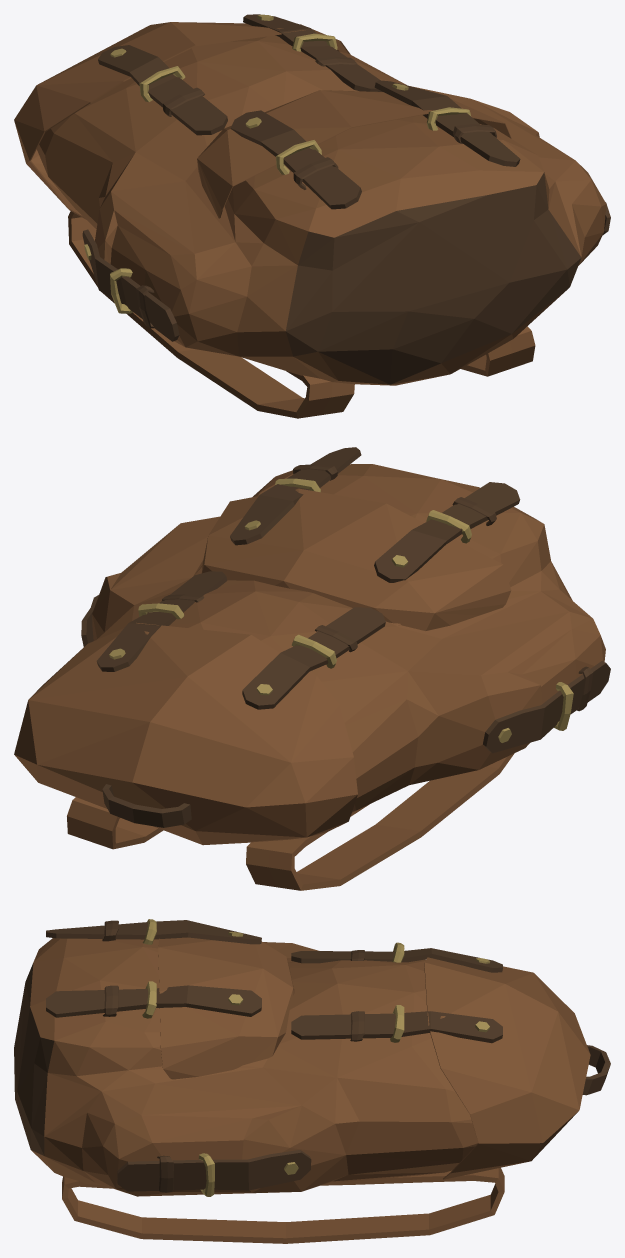
Rendered from rucksack.glb.
The picture shows the model from 3 angles, top to bottom: view 1: azimuth 30°, elevation 25°; view 2: azimuth 150°, elevation 25°; view 3: azimuth 270°, elevation 25°; orthographic projection. The views are drawn at different scales.
Visible parts, largest first — view 1: backpack, Cylinder.001, Cube.001, Cube.002, Plane.002; view 2: backpack, Cube.001, Cylinder.001, Cube.002, Plane.002, Plane.003; view 3: backpack, Cube.001, Cylinder.001, Cube.002, Plane.002, Plane.003.
Boxes of the visible parts, x1,y1,x2,y2 form: backpack: [37, 35, 606, 385]; Cylinder.001: [82, 14, 610, 341]; Cube.001: [14, 22, 350, 219]; Cube.002: [197, 90, 511, 218]; Plane.002: [68, 211, 535, 418]; backpack: [92, 464, 605, 812]; Cube.001: [14, 622, 357, 845]; Cylinder.001: [81, 447, 610, 753]; Cube.002: [202, 488, 511, 630]; Plane.002: [67, 753, 514, 890]; Plane.003: [102, 784, 191, 827]; backpack: [14, 938, 478, 1196]; Cube.001: [424, 957, 590, 1179]; Cylinder.001: [46, 919, 502, 1196]; Cube.002: [158, 937, 294, 1079]; Plane.002: [62, 1167, 504, 1243]; Plane.003: [582, 1045, 610, 1095].
Bounding box in the file's own units: 0.8074 × 0.435 × 0.9876.
